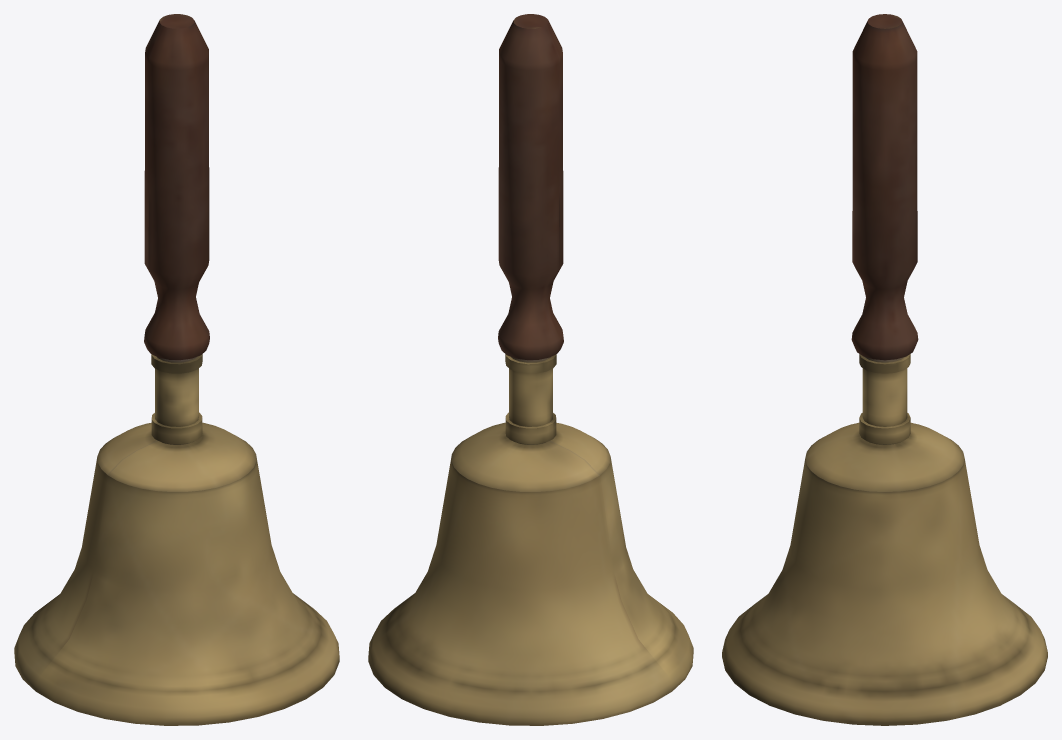
The model's file is desk-bell.glb.
The picture shows the model from 3 angles, left to right: view 1: azimuth 30°, elevation 25°; view 2: azimuth 150°, elevation 25°; view 3: azimuth 270°, elevation 25°; orthographic projection.
Visible parts, largest first — view 1: desk-bell; view 2: desk-bell; view 3: desk-bell.
Boxes of the visible parts, x1,y1,x2,y2 form: desk-bell: (14,14,339,725); desk-bell: (368,14,693,725); desk-bell: (722,14,1047,725).
Bounding box in the file's own units: 0.0644 × 0.1386 × 0.0644.
1 material, 1 textured.
